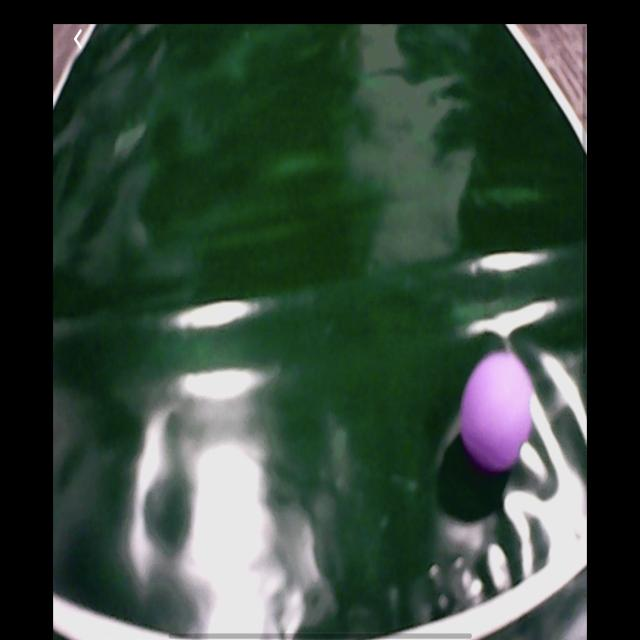ball: (459, 349, 536, 474)
